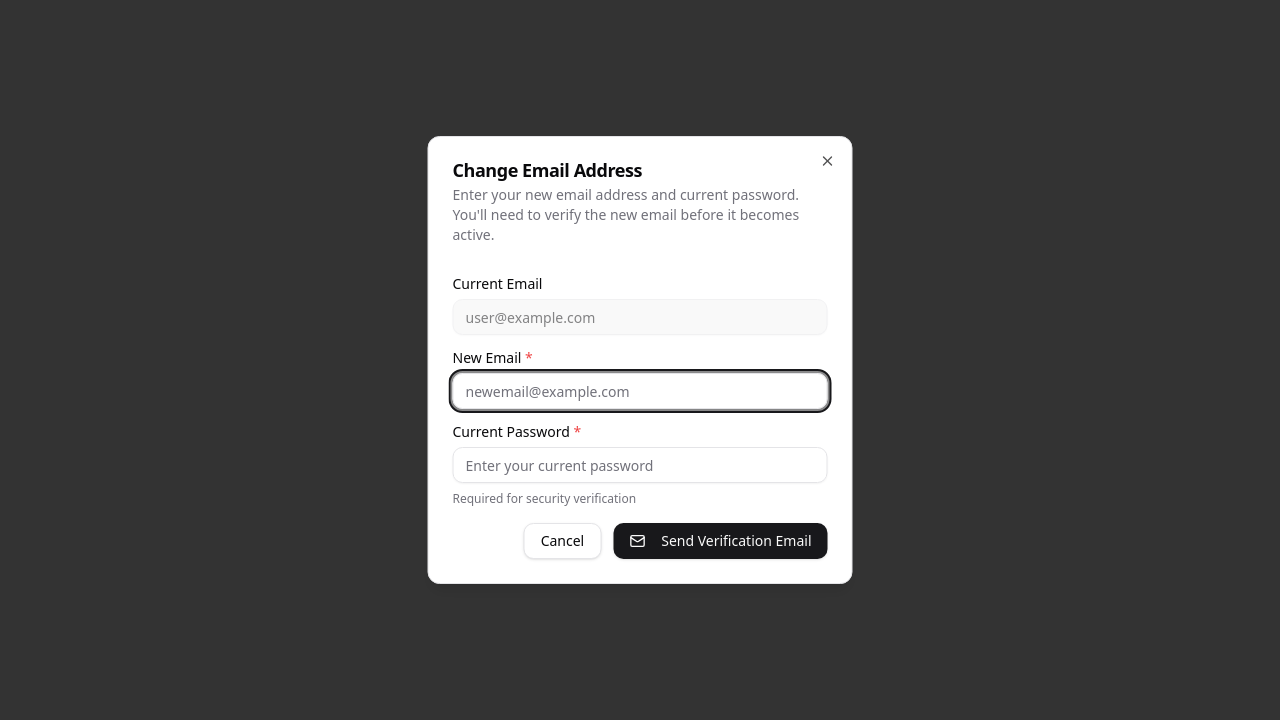
it: ChangeEmailDialog › validates required fields
Step 1. Click the button "Send Verification Email" → (720, 541), box [613,523,828,559]
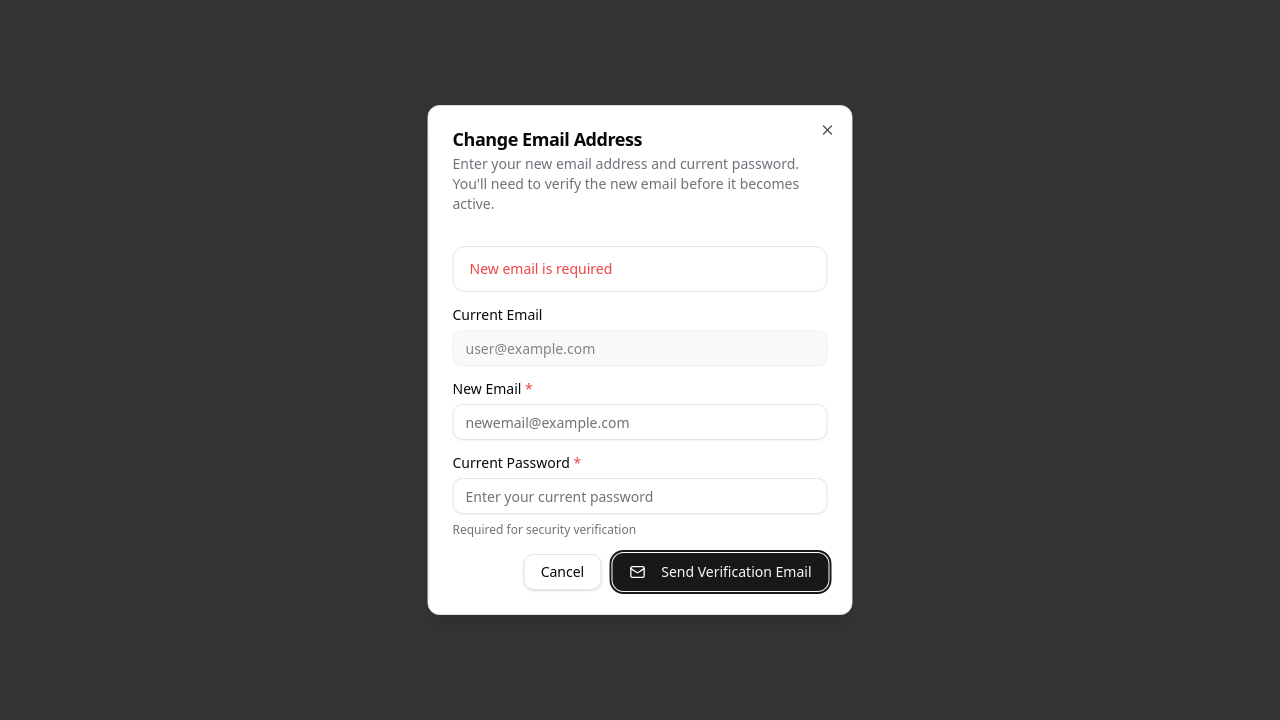
Expected: the text "New email is required" is shown, [470,259,612,278]
